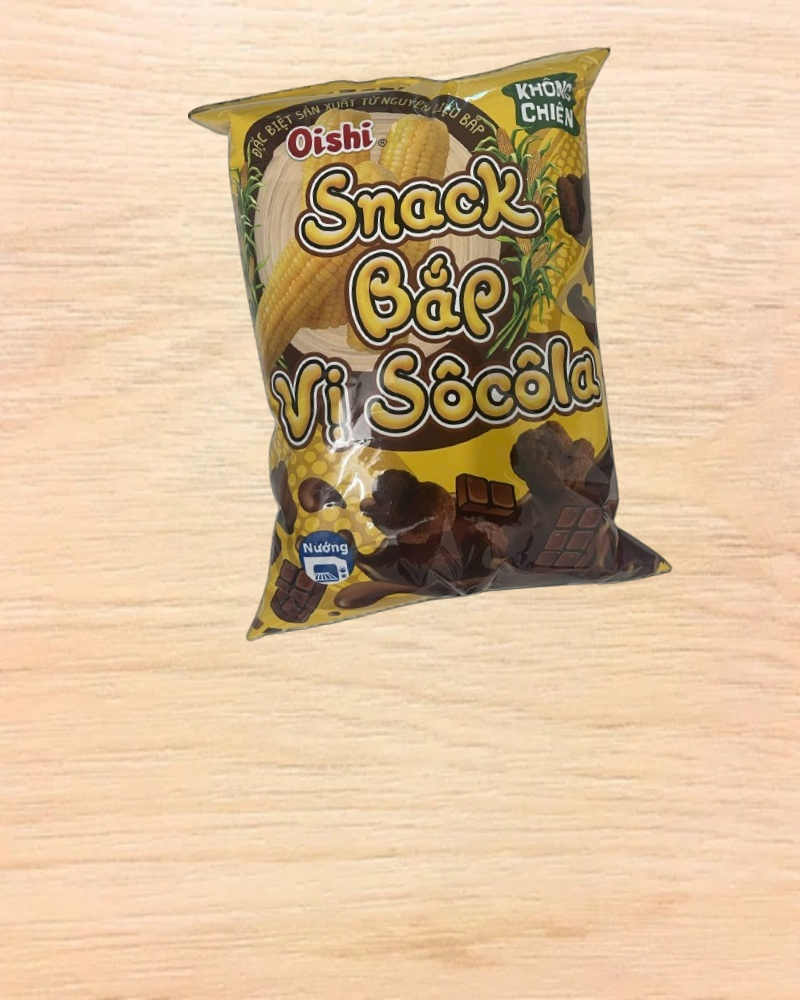Snack socola: (189, 49, 675, 630)
